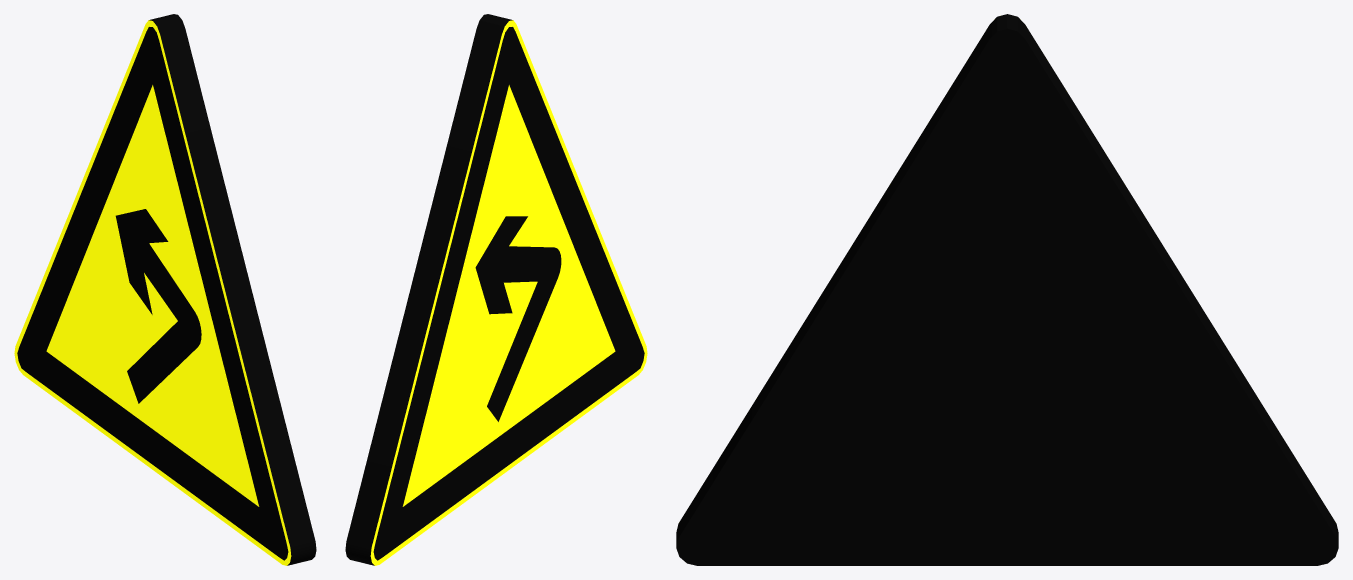
The model's file is Turn_Left_Quickly.glb.
The picture shows the model from 3 angles, left to right: view 1: azimuth 30°, elevation 25°; view 2: azimuth 150°, elevation 25°; view 3: azimuth 270°, elevation 25°; orthographic projection. The views are drawn at different scales.
Parts seen in each view (by area): view 1: Turn_Left_Quickly; view 2: Turn_Left_Quickly; view 3: Turn_Left_Quickly.
Part boxes in pixels (<box>): Turn_Left_Quickly: <box>14,14,316,565</box>; Turn_Left_Quickly: <box>345,14,647,565</box>; Turn_Left_Quickly: <box>676,14,1338,565</box>.
Size of the model in its own units: 0.0643 by 1.02 by 1.14.
